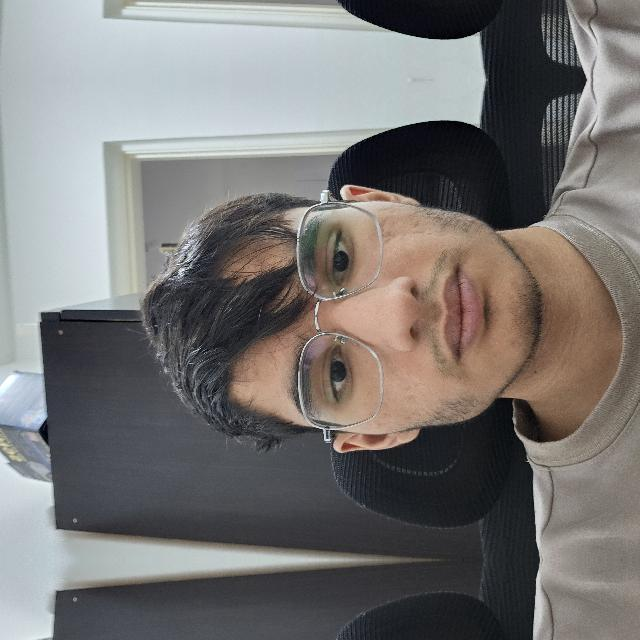person: (1, 218, 478, 640), (1, 400, 478, 640)
